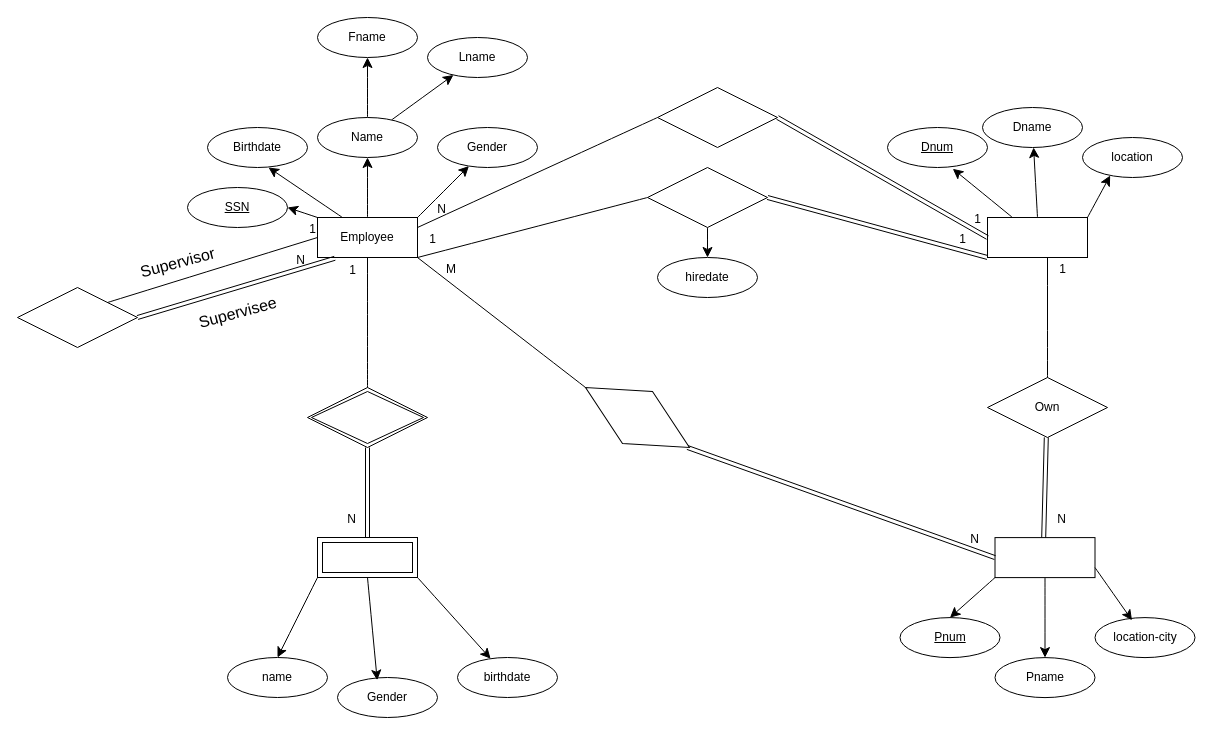
Image size: 1213x735. Some labels were removed from this diagram. Each missing label, with the centre of its shape:
"Department" goes at pixel 1037 237.
"Dependent" goes at pixel 367 557.
"Has" goes at pixel 367 417.
"Manage" goes at pixel 707 197.
"project" goes at pixel 1044 557.
"Supervise" goes at pixel 77 317.
"Work in" goes at pixel 717 117.
"work-on" goes at pixel 637 417.
